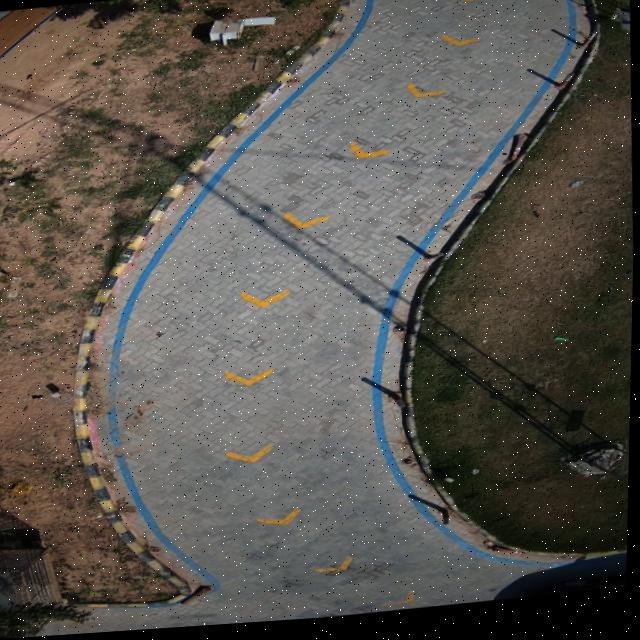car: (539, 583, 629, 603)
